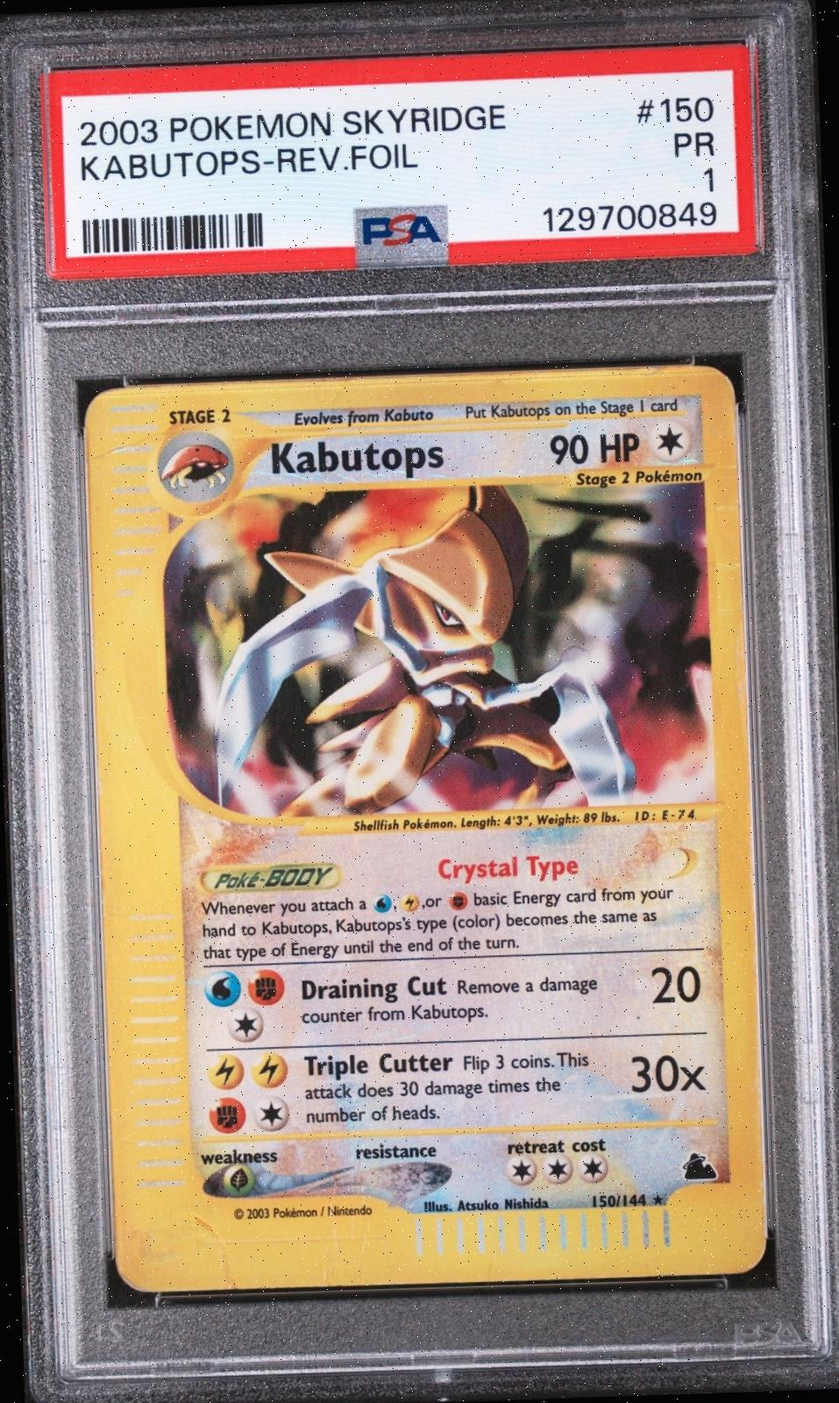card-2UtV: (83, 365, 766, 1293)
